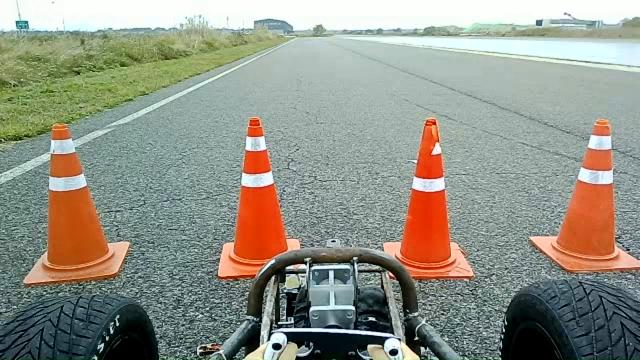red cone: (22, 122, 130, 286), (528, 117, 638, 274), (386, 116, 477, 280), (217, 115, 301, 280)
